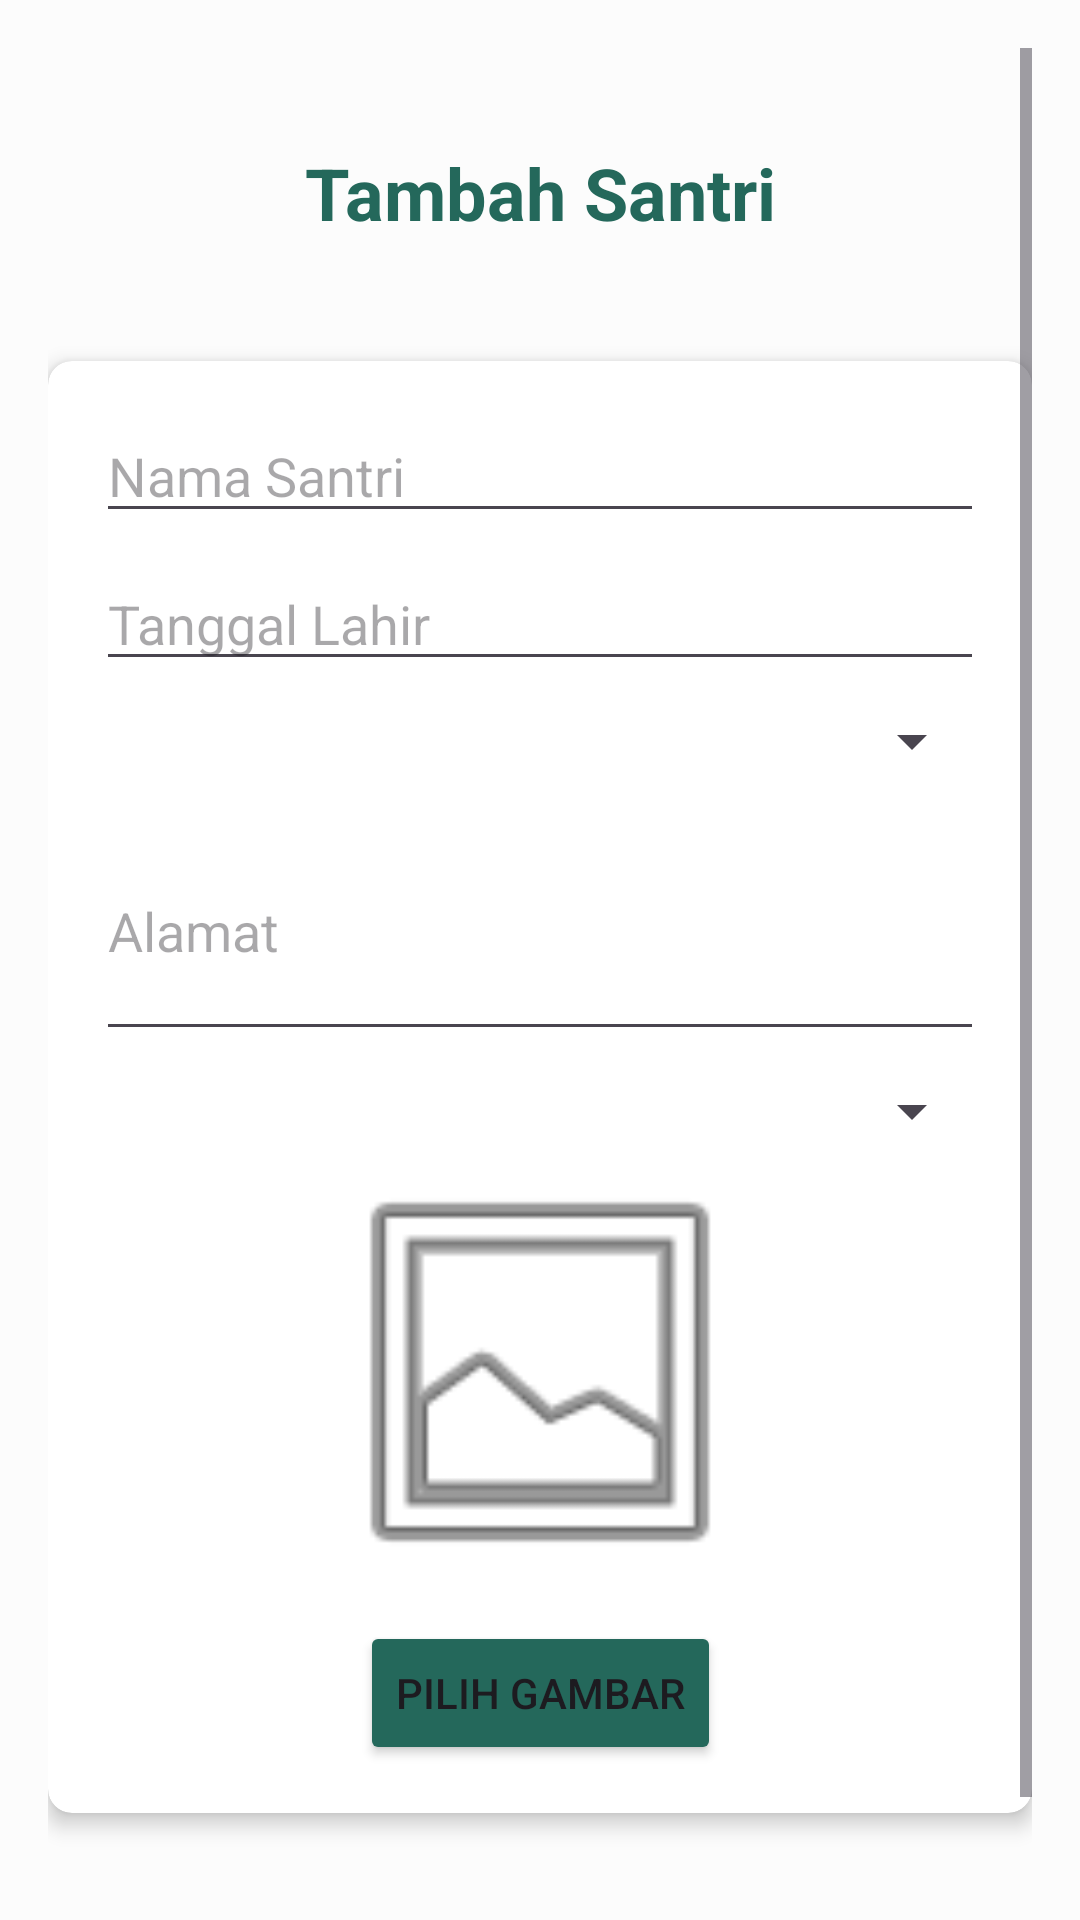

Named icons in this screenshot (1080w x 1920h) and their centers, [x,y]:
gallery: [540,1372]
